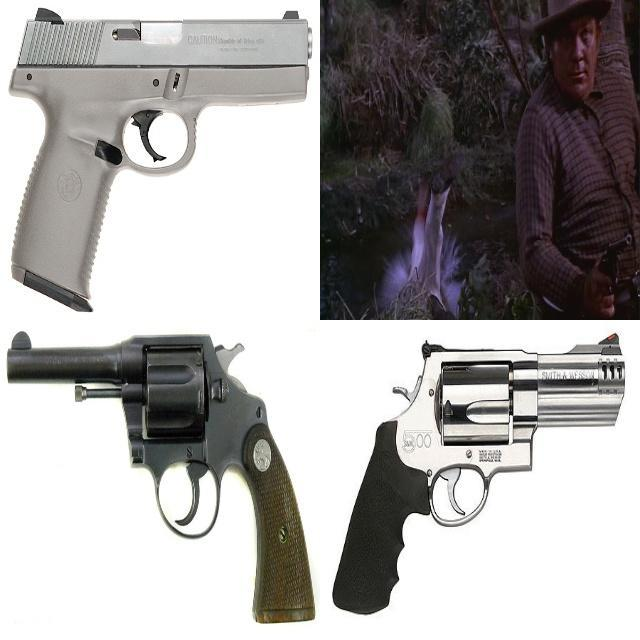gun-knife-thesis - v11 Yolov5 augmented: (2, 324, 315, 630), (9, 10, 312, 297), (329, 333, 629, 621), (594, 222, 639, 319)
